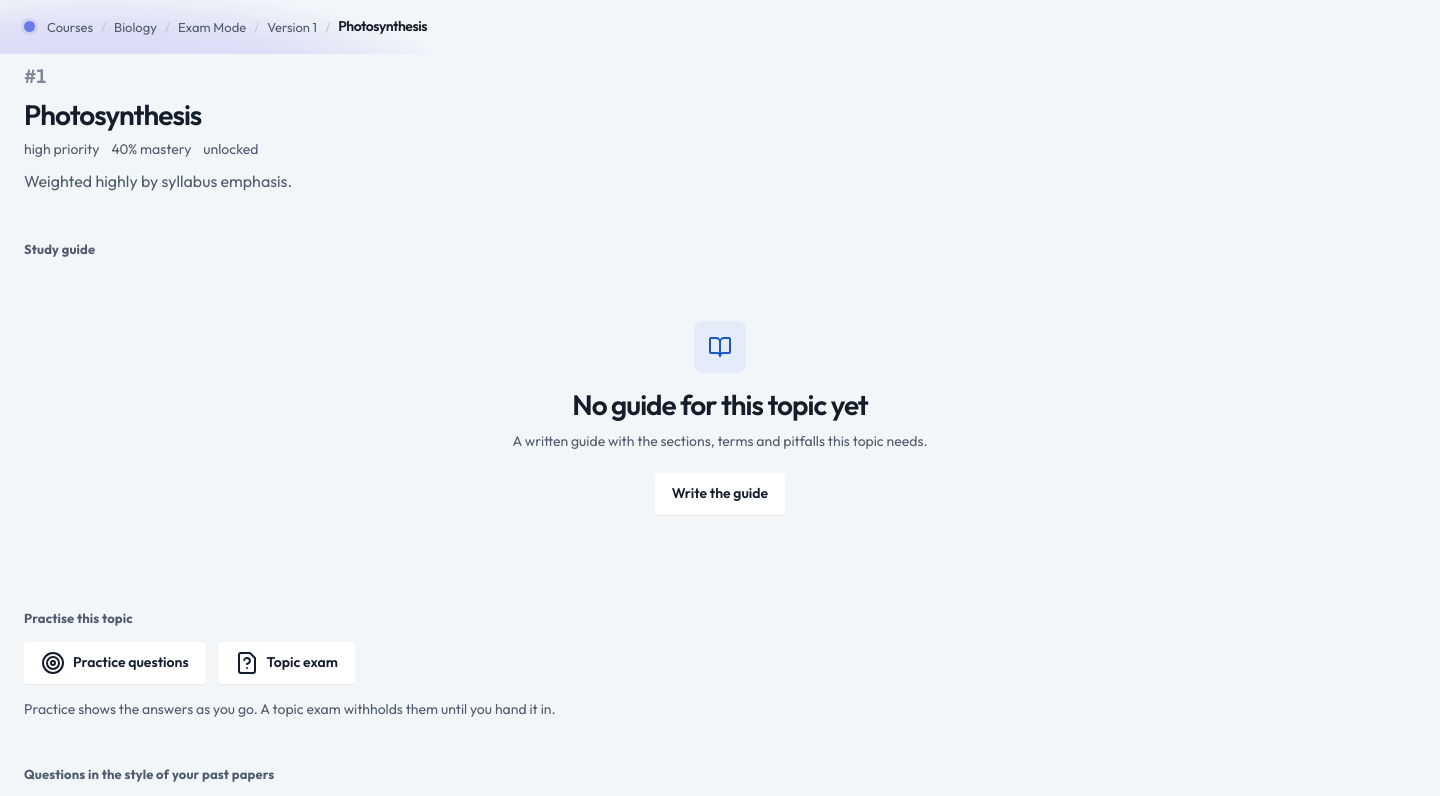
ExamModeTopicPage › reports a generation failure without claiming a guide
Click the button "Write the guide".
click(720, 494)  # box [655,473,785,515]
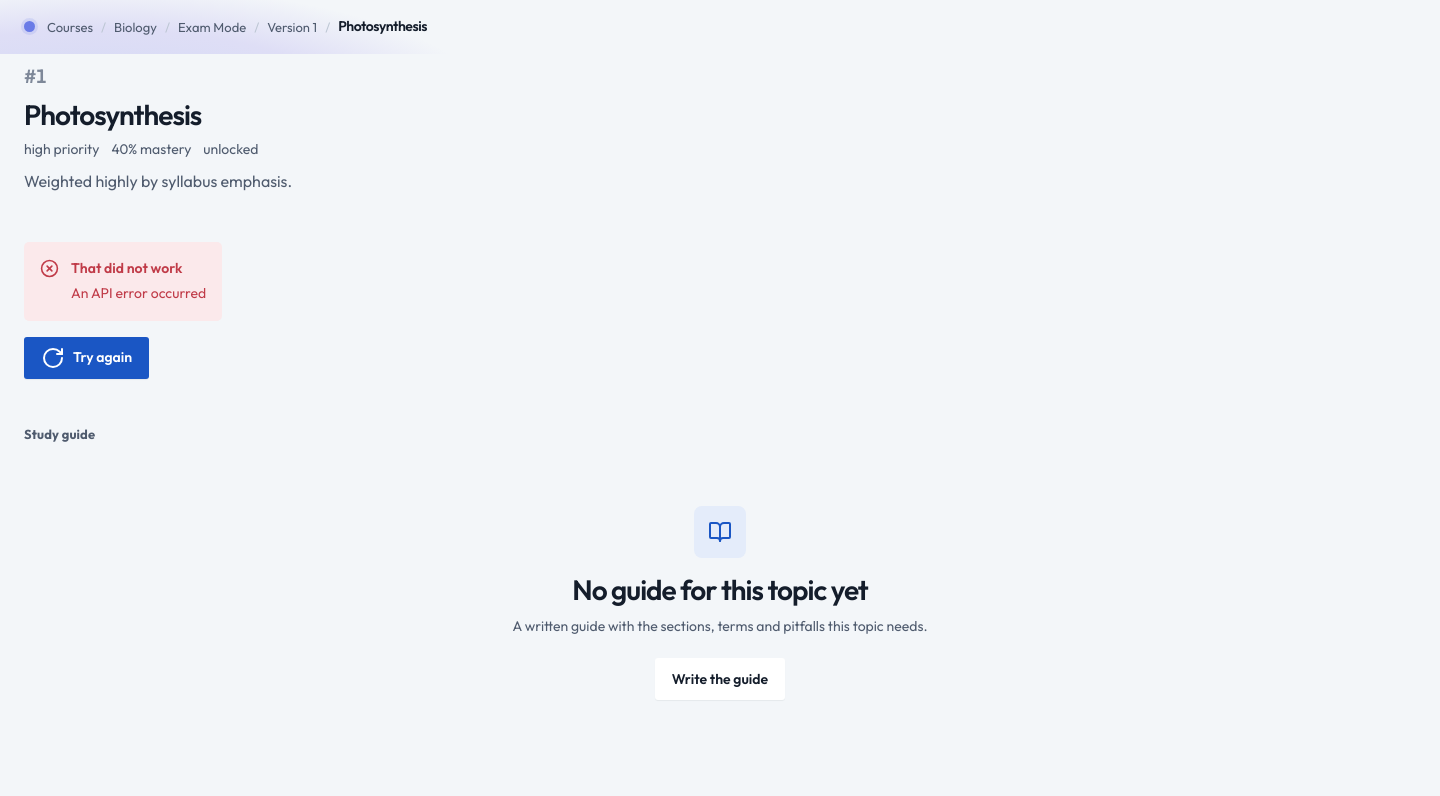
Expected: the message "That did not work An API error occurred" is shown, [24,242,222,321]
